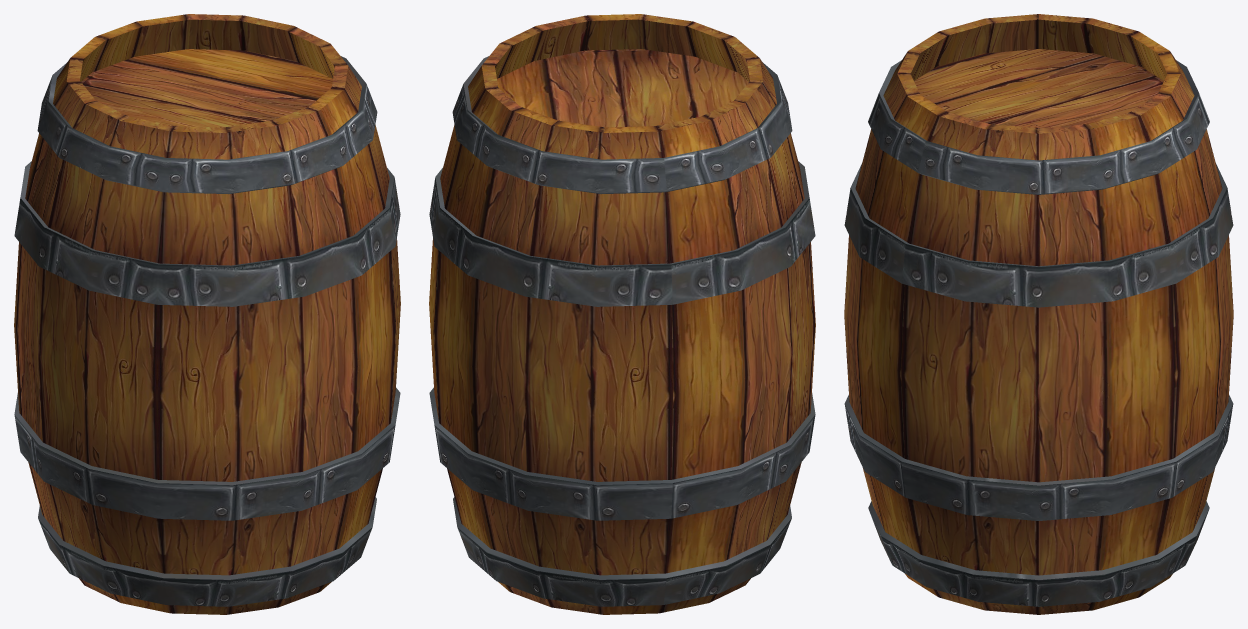
Rendered from barrel.fbx.
The picture shows the model from 3 angles, left to right: view 1: azimuth 30°, elevation 25°; view 2: azimuth 150°, elevation 25°; view 3: azimuth 270°, elevation 25°; orthographic projection.
Visible parts, largest first — view 1: barrel; view 2: barrel; view 3: barrel.
Part boxes in pixels (x1,y1,x2,y2): barrel: [14, 14, 400, 614]; barrel: [429, 14, 815, 614]; barrel: [844, 14, 1233, 614].
Bounding box in the file's own units: 45.75 × 62.34 × 45.75.
Materials: 2 (2 with a texture image).
